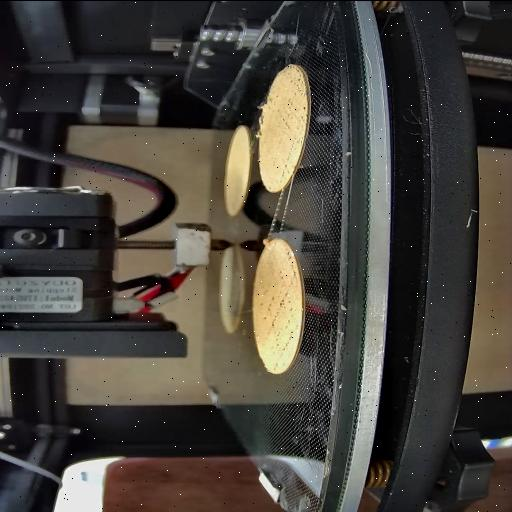under_extrusion: (260, 290, 296, 350), (274, 76, 306, 128), (278, 246, 298, 280), (278, 144, 294, 180)
